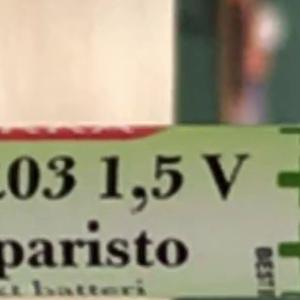1,5V: (90, 144, 255, 209)
